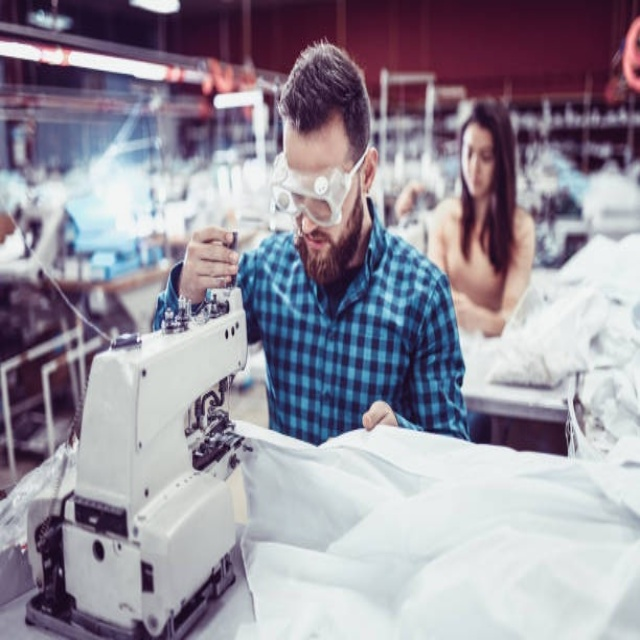Gafas: (269, 144, 368, 229)
Sin_guantes: (176, 223, 241, 301)
Sin_mascara: (294, 223, 334, 264)
